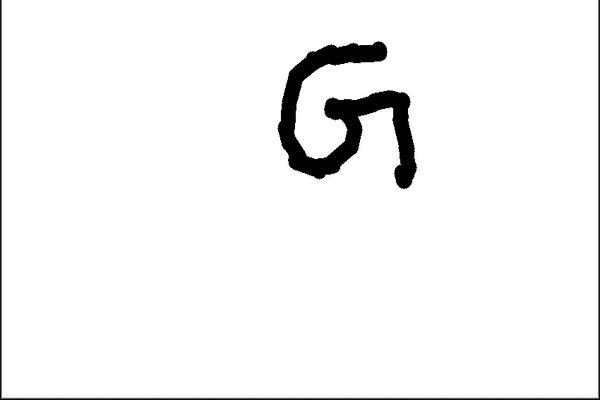G: (272, 36, 420, 191)
